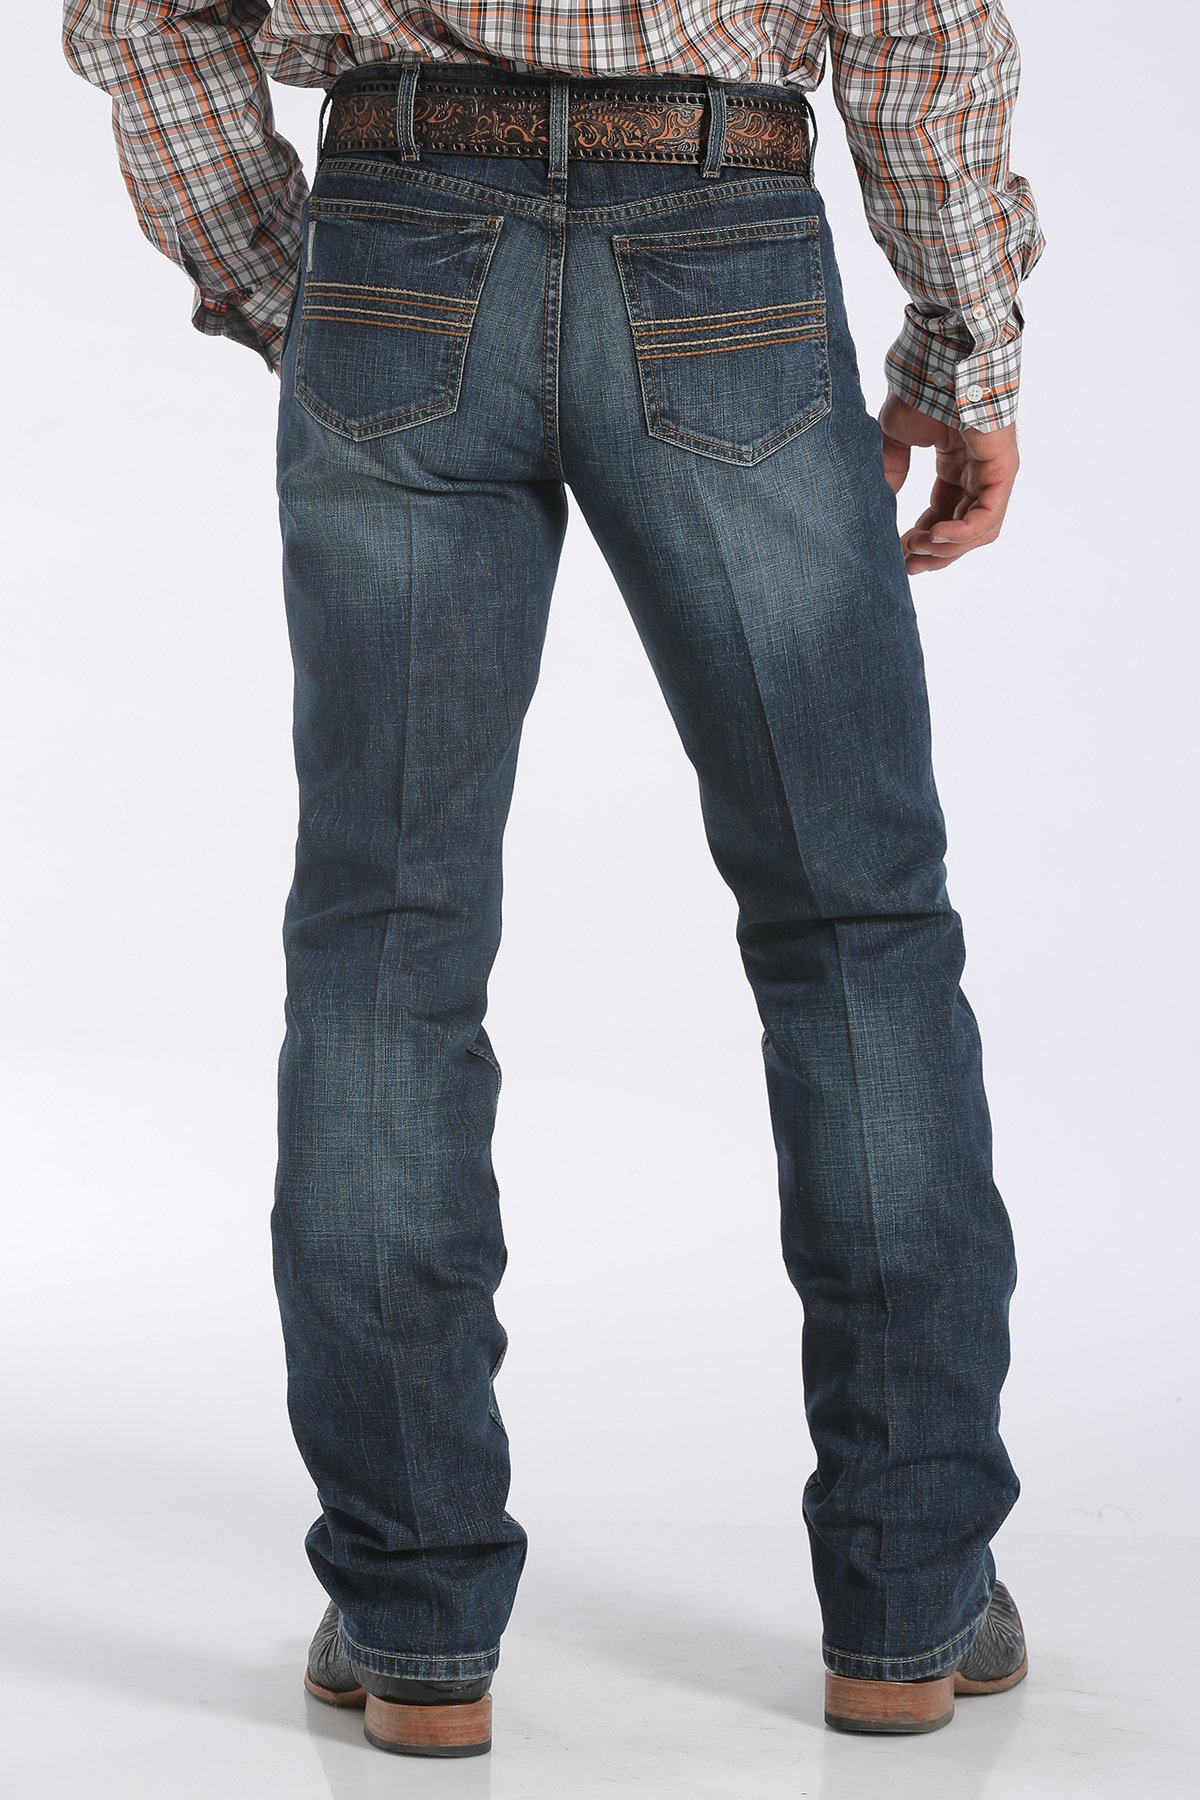Jeans: (242, 71, 1023, 1657)
